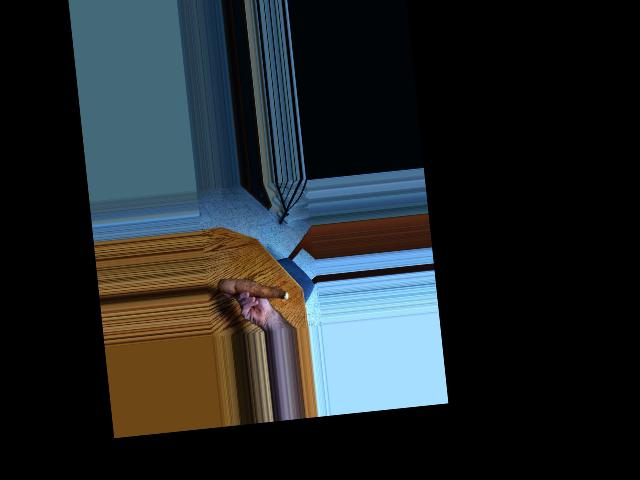sweet_potato: (216, 271, 290, 308)
